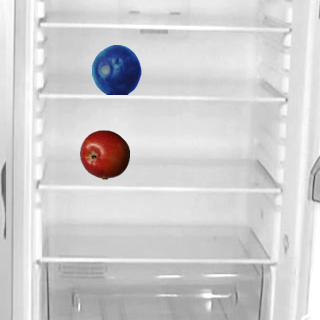Apple Braeburn: (79, 129, 129, 179)
Huckleberry: (91, 44, 141, 94)
